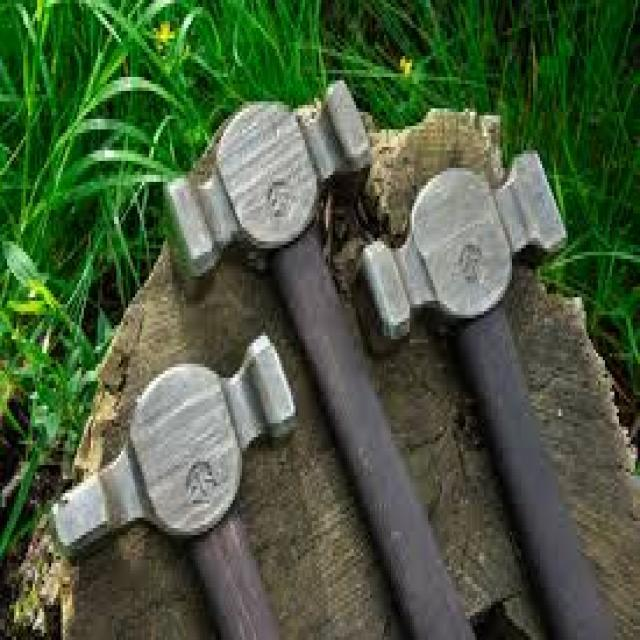hammer: (160, 74, 487, 636), (360, 140, 624, 640), (45, 321, 305, 640)
